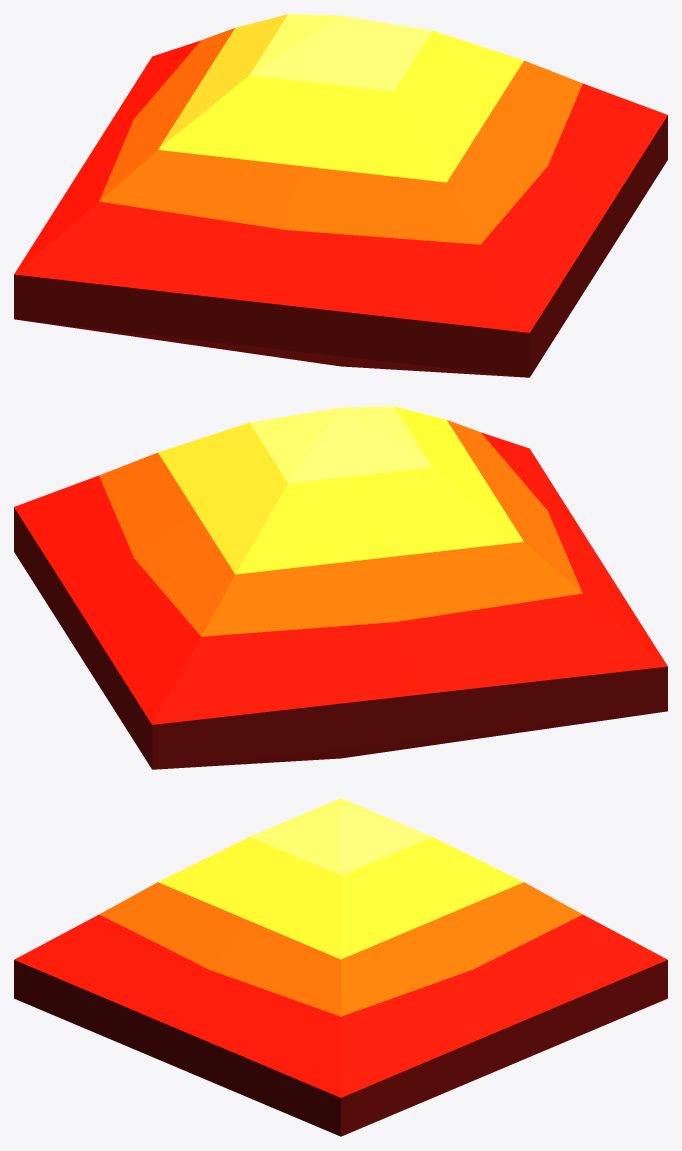
File: tyrian10-14.glb
3 renders of one model, top to bottom at view 1: azimuth 30°, elevation 25°; view 2: azimuth 150°, elevation 25°; view 3: azimuth 270°, elevation 25°, orthographic. The views are drawn at different scales.
Parts seen in each view (by area): view 1: tyrian10-14; view 2: tyrian10-14; view 3: tyrian10-14.
Part boxes in pixels (x1,y1,x2,y2): tyrian10-14: [14, 14, 667, 377]; tyrian10-14: [14, 406, 667, 769]; tyrian10-14: [14, 798, 667, 1136].
Size of the model in its own units: 0.9167 by 0.47 by 0.9167.
